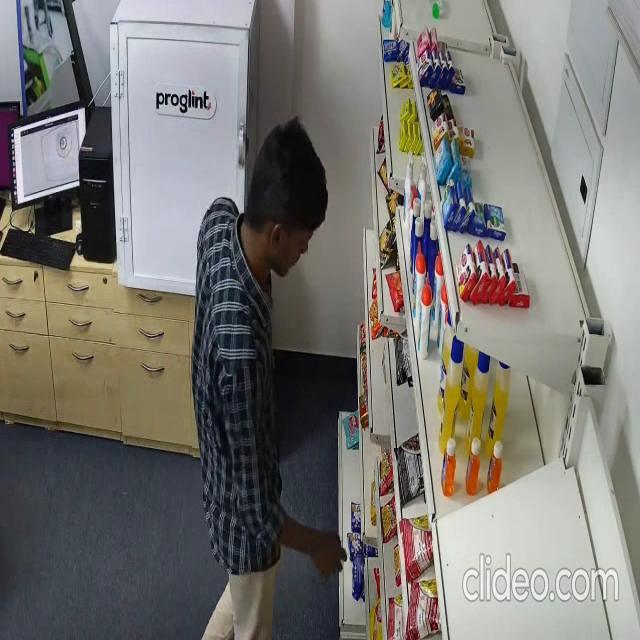normal: (192, 114, 348, 640)
